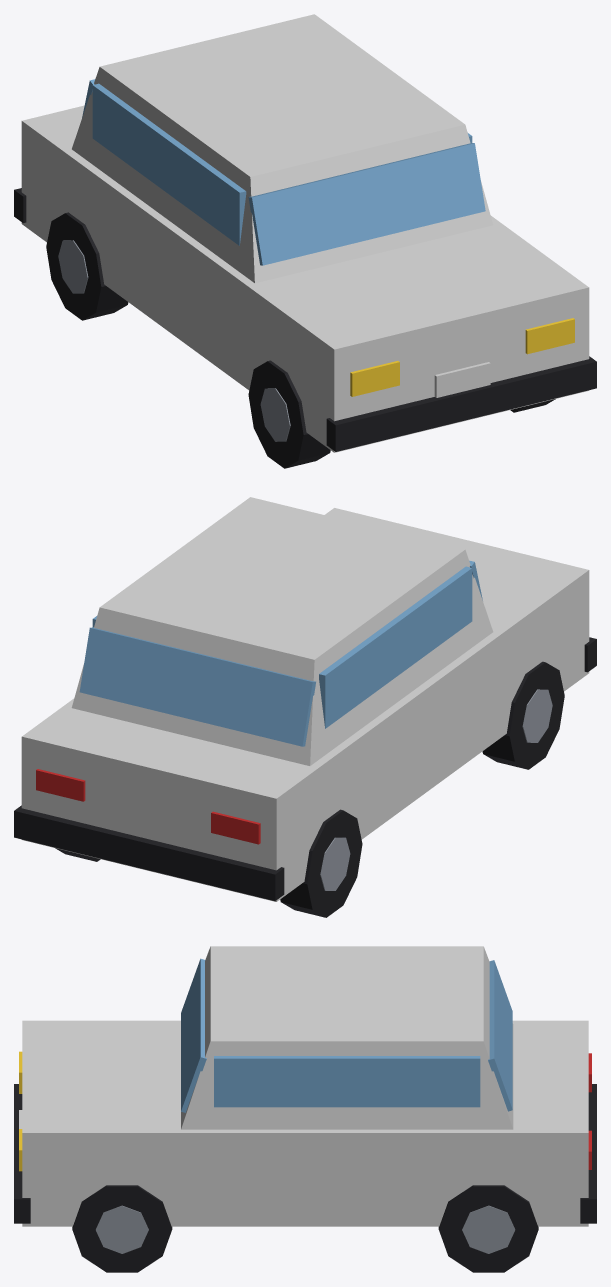
The model's file is p_car.glb.
The picture shows the model from 3 angles, top to bottom: view 1: azimuth 30°, elevation 25°; view 2: azimuth 150°, elevation 25°; view 3: azimuth 270°, elevation 25°; orthographic projection. The views are drawn at different scales.
Parts seen in each view (by area): view 1: car; view 2: car; view 3: car.
Part boxes in pixels (<box>): car: <box>14,14,596,468</box>; car: <box>14,497,596,917</box>; car: <box>14,946,596,1272</box>.
Bounding box in the file's own units: 1.65 × 1.47 × 3.5.
